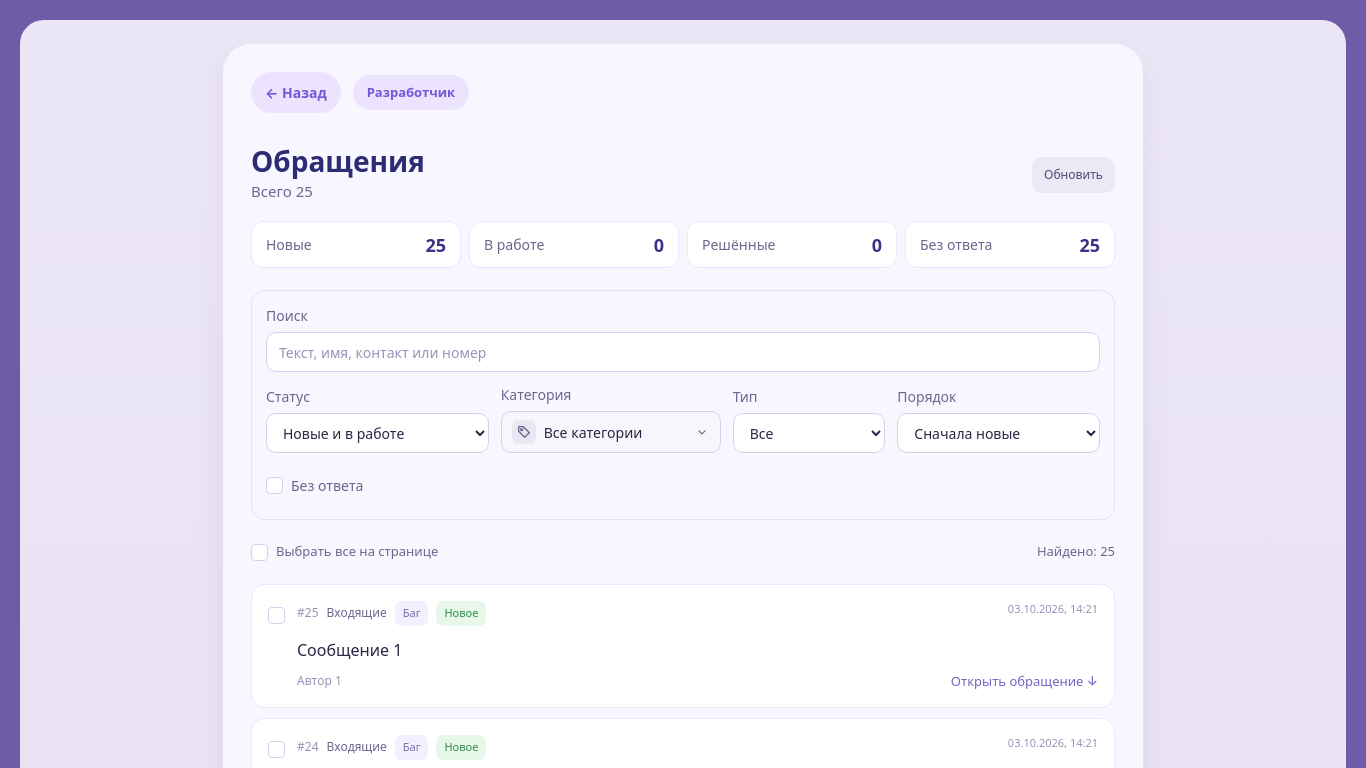
Scenario: does not select records beyond the visible page
Click the checkbox named "Выбрать показанные обращения" at {"x": 260, "y": 552}, box [251,544,268,561]
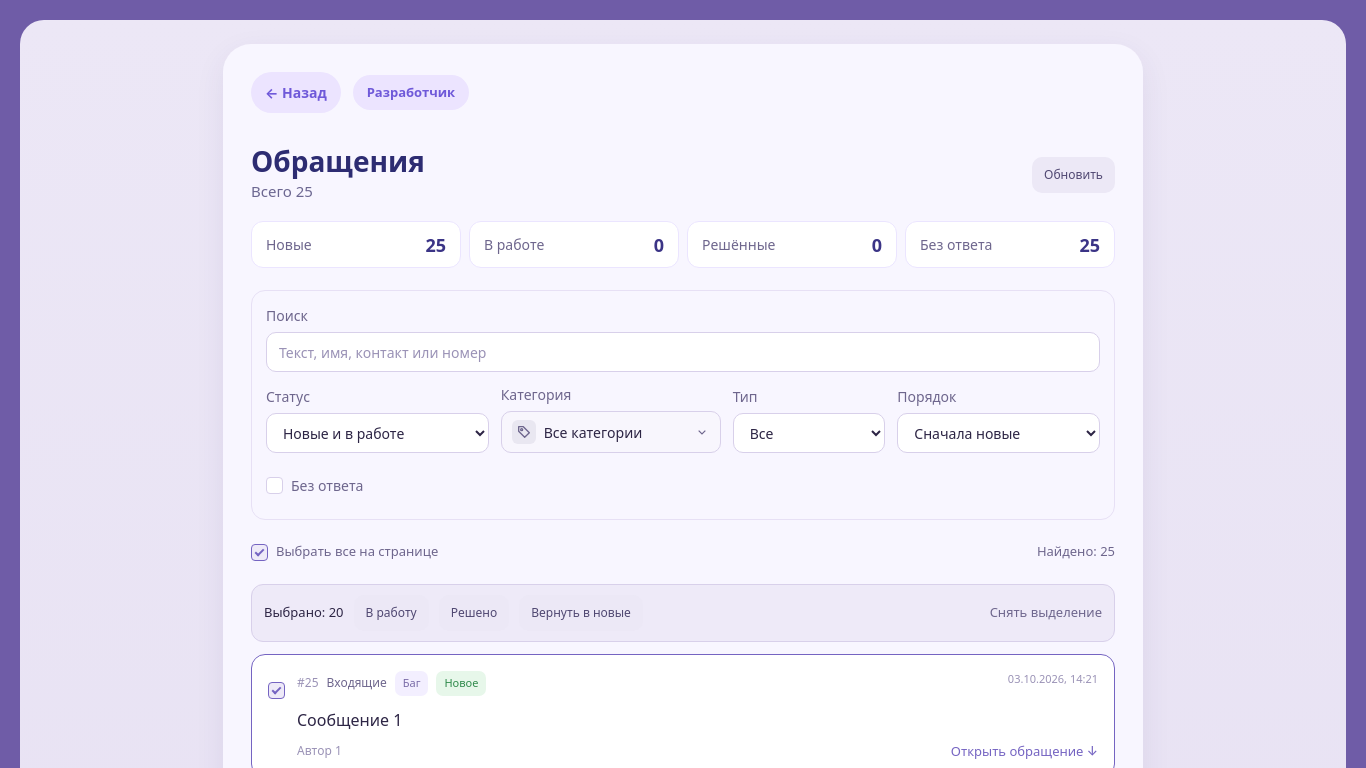
Now the text "Выбрано: 20" is shown, box [264,603,344,623]
